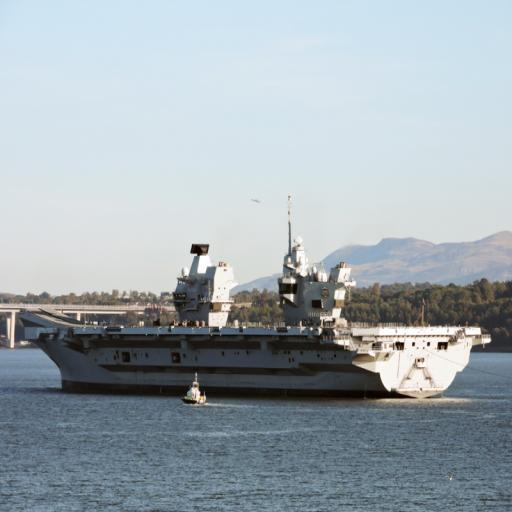Portanaves: (17, 191, 495, 408)
